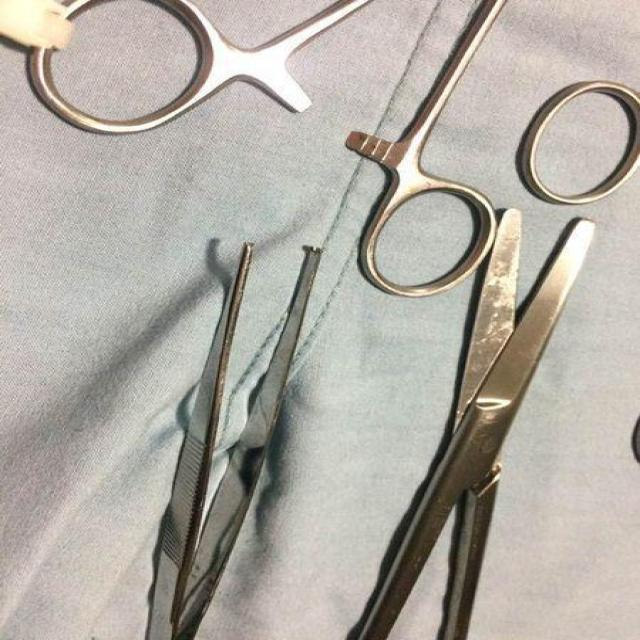Forceps: (144, 237, 326, 640)
Hemostat: (23, 0, 505, 302)
Mayo_metz: (348, 201, 602, 640)
